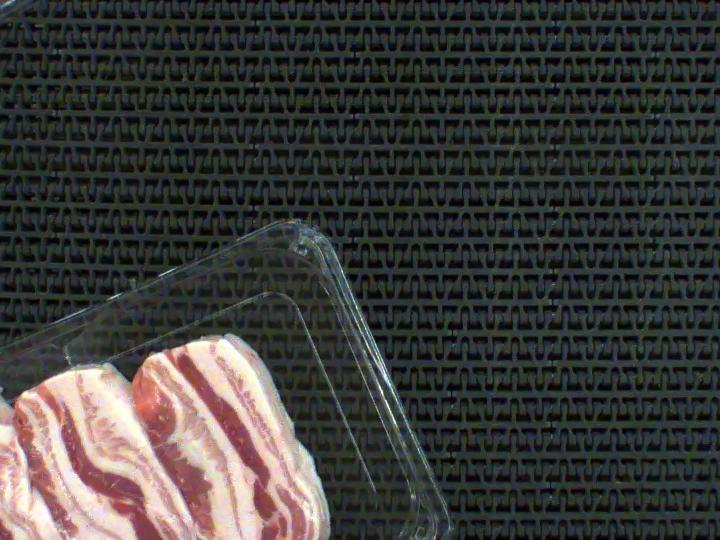packaging-error: (0, 362, 61, 442)
